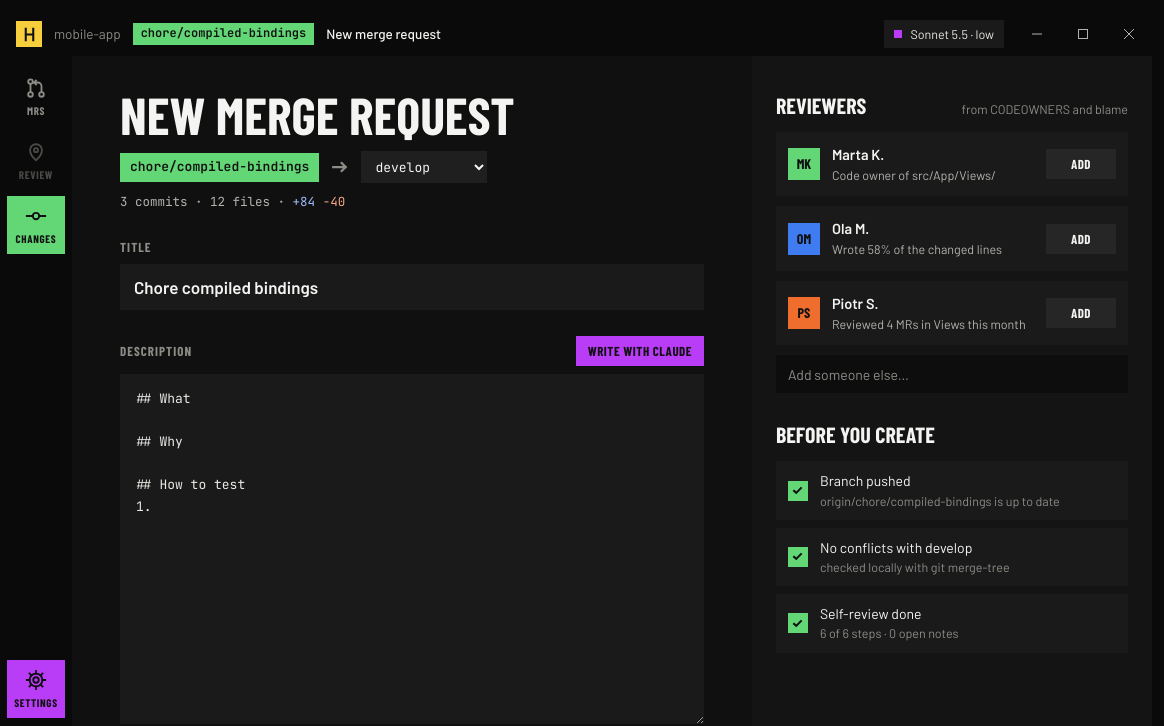
it: S-11 title and description (F-27.2) › F-27.2 the description is written for the target chosen in the branch block
Check: the field labelled "Title" is not empty, box [120, 264, 704, 310]
Select "main" in the dropdown named "Target branch": (424, 167) [361, 151, 487, 183]
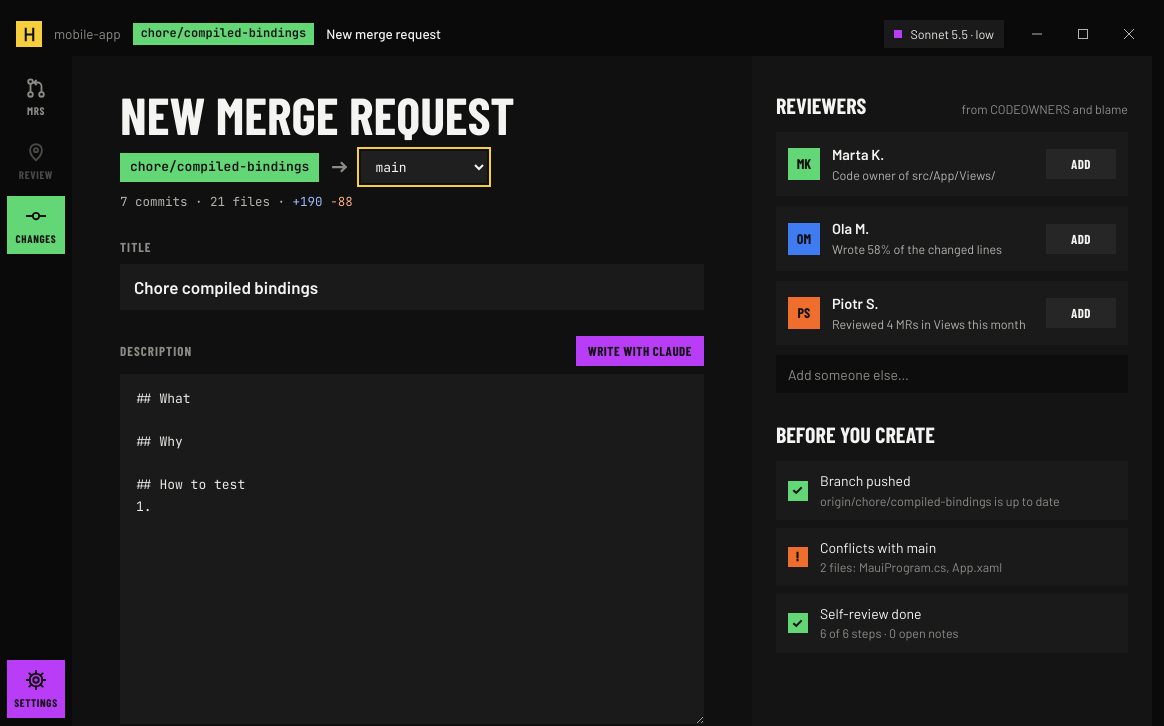
Click the button "Write with Claude": (640, 351) [576, 336, 704, 366]
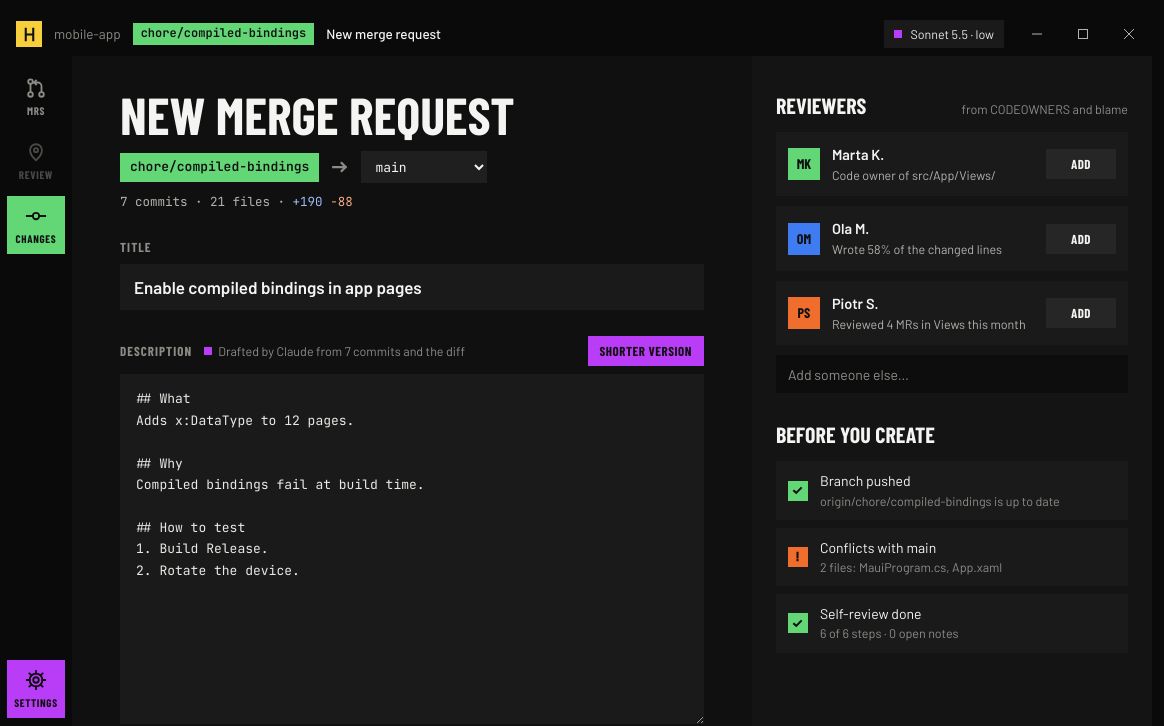
Check: the button "Shorter version" is shown, box [588, 336, 704, 366]
